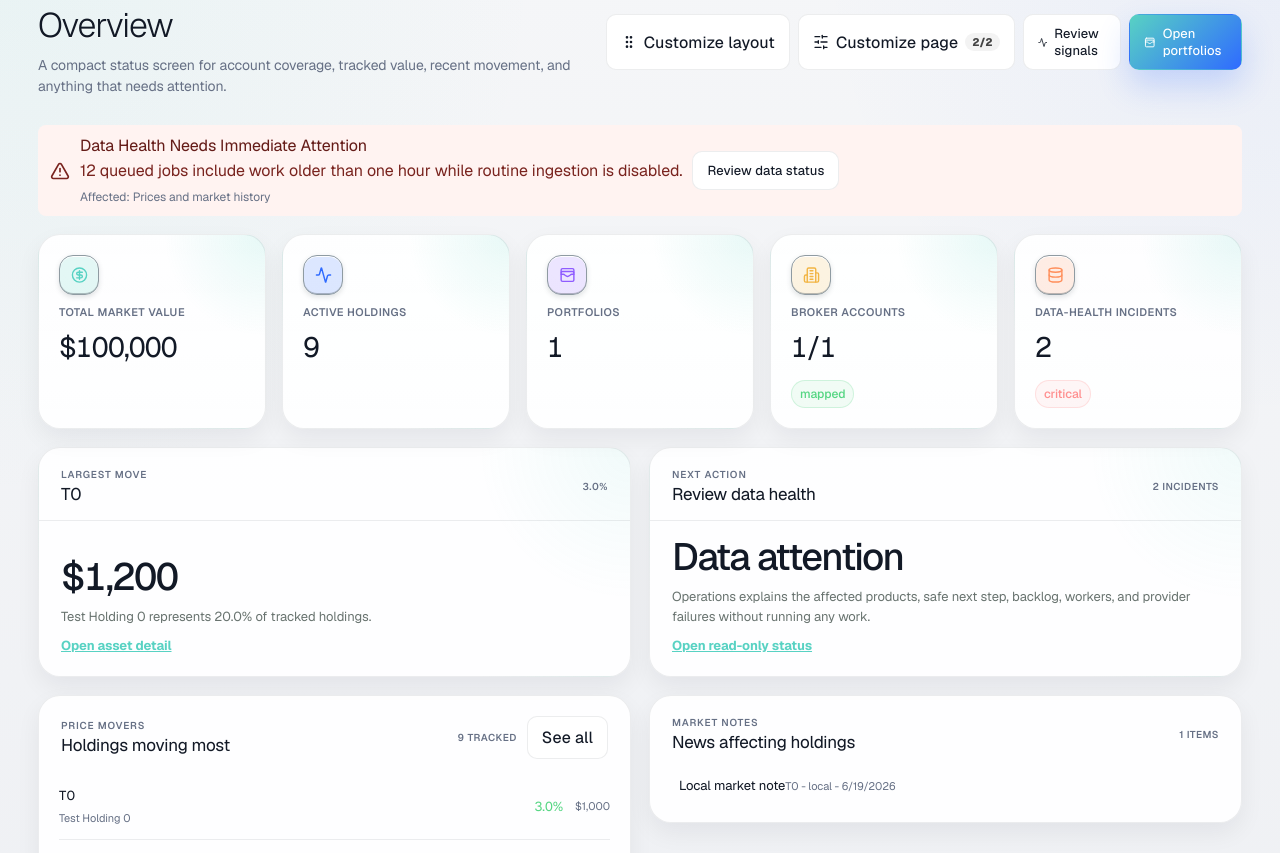
Test: OverviewPage › renders market snapshot and expands movers
The image size is (1280, 853).
Expected: the heading "Overview" is shown, [38,3,173,47]
Expected: the text "Total market value" is shown, [59,305,185,319]
Click the button "See all": click(567, 738) [527,716,608,759]
(page scrolled)
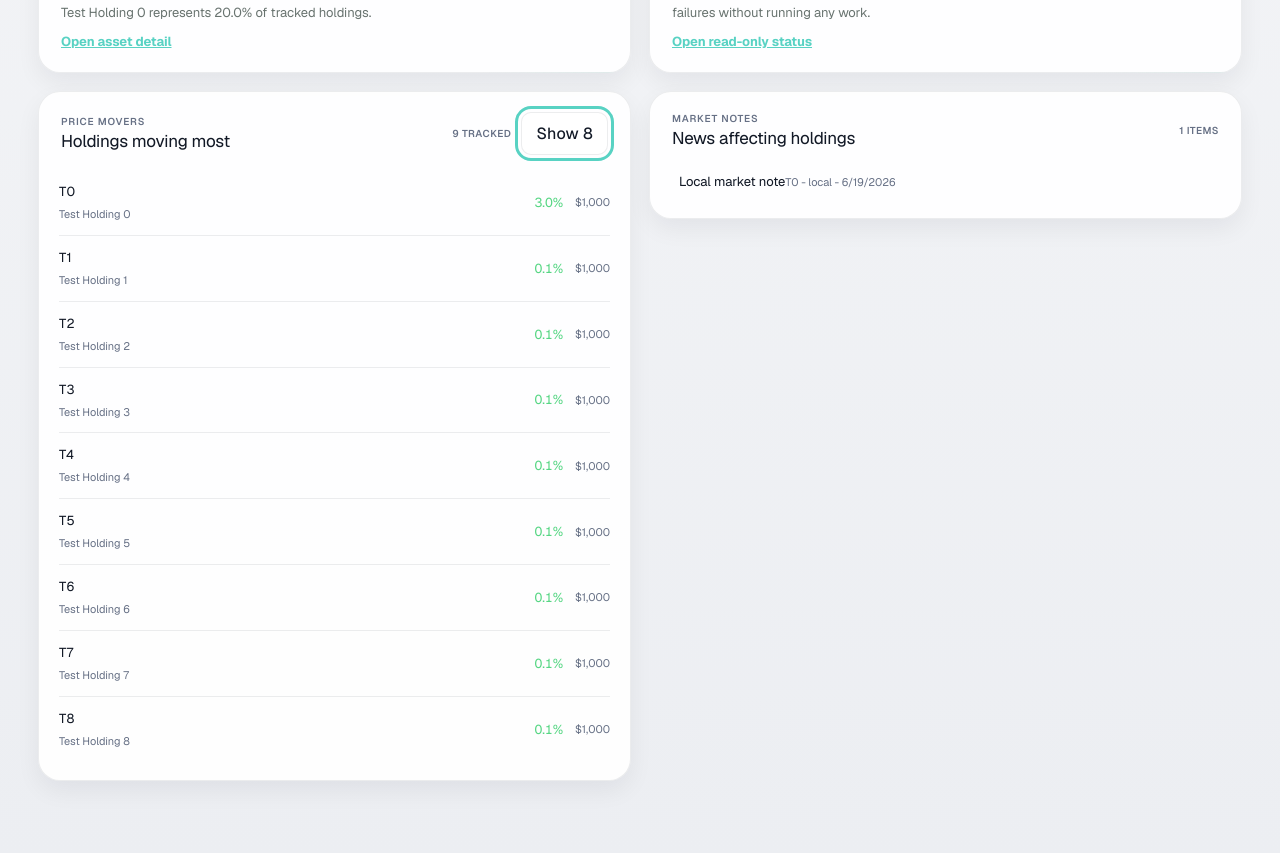
Result: the text "Test Holding 8" is shown at [59,734,130,748]
